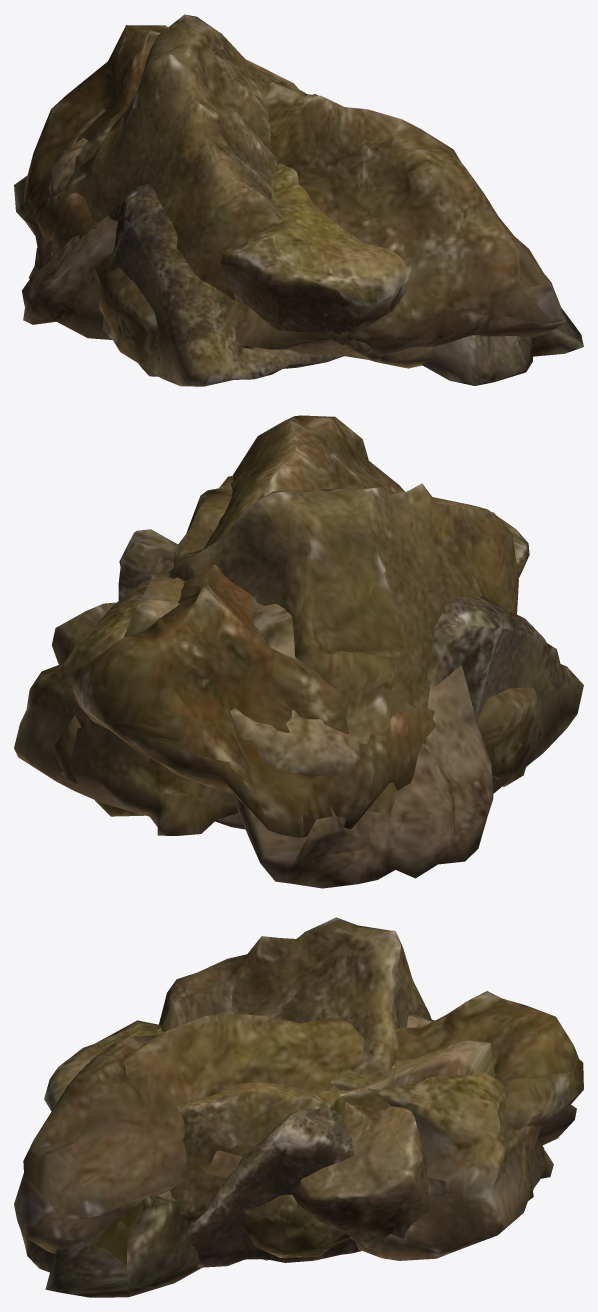
Rendered from rocks.glb.
3 renders of one model, top to bottom at view 1: azimuth 30°, elevation 25°; view 2: azimuth 150°, elevation 25°; view 3: azimuth 270°, elevation 25°, orthographic. The views are drawn at different scales.
Parts seen in each view (by area): view 1: rock_moss_set_01_rock01, rock_moss_set_01_rock04, rock_moss_set_01_rock05, rock_moss_set_01_rock03, rock_moss_set_01_rock02, rock_moss_set_01_rock06; view 2: rock_moss_set_01_rock01, rock_moss_set_01_rock04, rock_moss_set_01_rock02, rock_moss_set_01_rock05, rock_moss_set_01_rock03, rock_moss_set_01_rock06; view 3: rock_moss_set_01_rock01, rock_moss_set_01_rock04, rock_moss_set_01_rock05, rock_moss_set_01_rock06, rock_moss_set_01_rock02, rock_moss_set_01_rock03.
Part boxes in pixels (<box>): rock_moss_set_01_rock01: <box>23,25,566,376</box>; rock_moss_set_01_rock04: <box>51,14,317,299</box>; rock_moss_set_01_rock05: <box>48,90,411,355</box>; rock_moss_set_01_rock03: <box>103,184,343,386</box>; rock_moss_set_01_rock02: <box>14,176,583,385</box>; rock_moss_set_01_rock06: <box>245,59,433,368</box>; rock_moss_set_01_rock01: <box>66,415,537,837</box>; rock_moss_set_01_rock04: <box>52,483,518,817</box>; rock_moss_set_01_rock02: <box>232,594,493,888</box>; rock_moss_set_01_rock05: <box>14,497,529,835</box>; rock_moss_set_01_rock03: <box>118,529,583,829</box>; rock_moss_set_01_rock06: <box>54,476,233,816</box>; rock_moss_set_01_rock01: <box>14,991,583,1260</box>; rock_moss_set_01_rock04: <box>159,917,431,1251</box>; rock_moss_set_01_rock05: <box>44,1020,553,1260</box>; rock_moss_set_01_rock06: <box>169,1040,533,1257</box>; rock_moss_set_01_rock02: <box>21,1014,576,1297</box>; rock_moss_set_01_rock03: <box>186,1107,361,1267</box>.
Bounding box in the file's own units: 2.65 × 1.76 × 3.36.
Materials: 1 (1 with a texture image).
